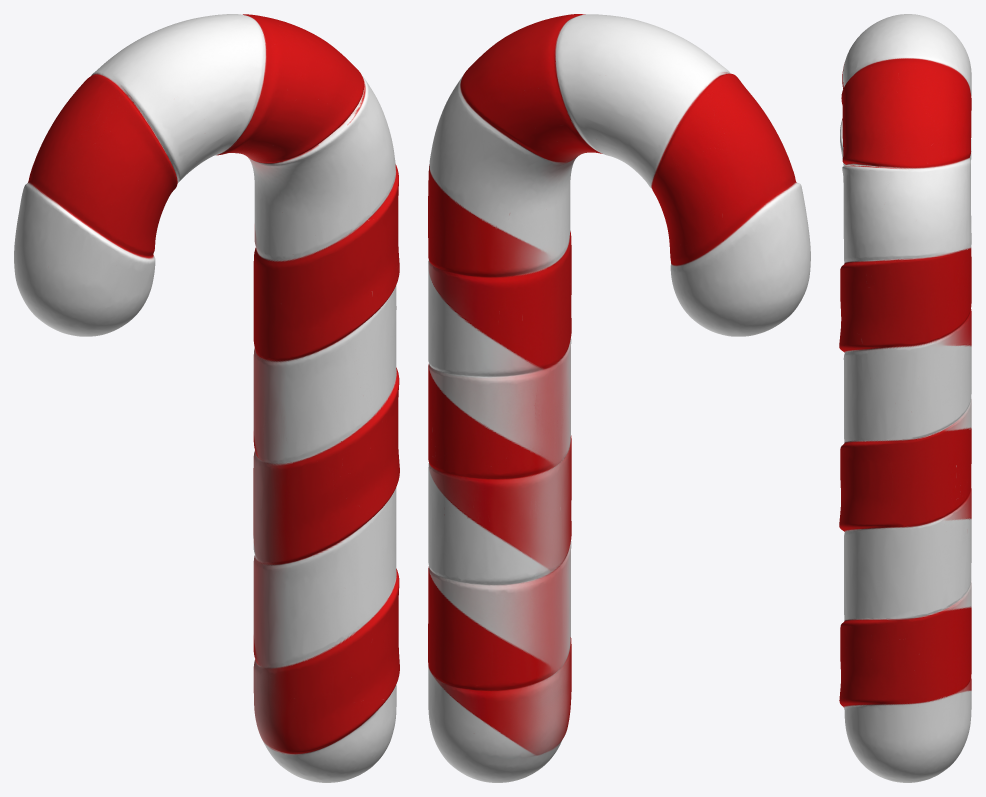
Rendered from candy.glb.
The picture shows the model from 3 angles, left to right: view 1: azimuth 30°, elevation 25°; view 2: azimuth 150°, elevation 25°; view 3: azimuth 270°, elevation 25°; orthographic projection. The views are drawn at different scales.
Size of the model in its own units: 0.9268 by 1.9 by 0.3295.
1 material, 1 textured.
